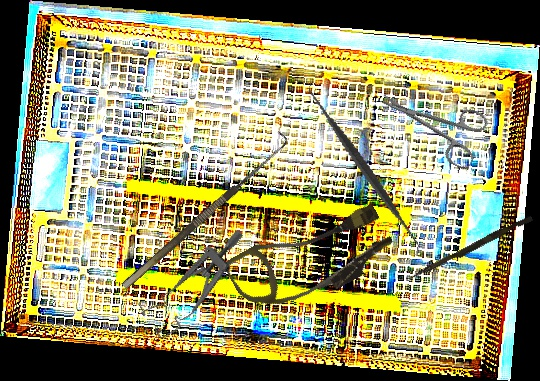Cannula: (222, 186, 400, 332)
Hook Surgical: (113, 130, 293, 290)
Iris Scissors: (369, 70, 494, 172)
Pusher: (407, 212, 534, 285)
Spatula Surgical: (274, 81, 454, 256)
Speculum: (130, 227, 267, 342)
